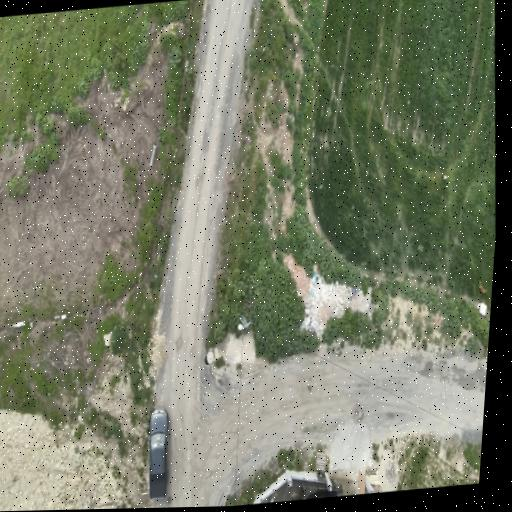car: (148, 410, 168, 499), (304, 491, 334, 498)
